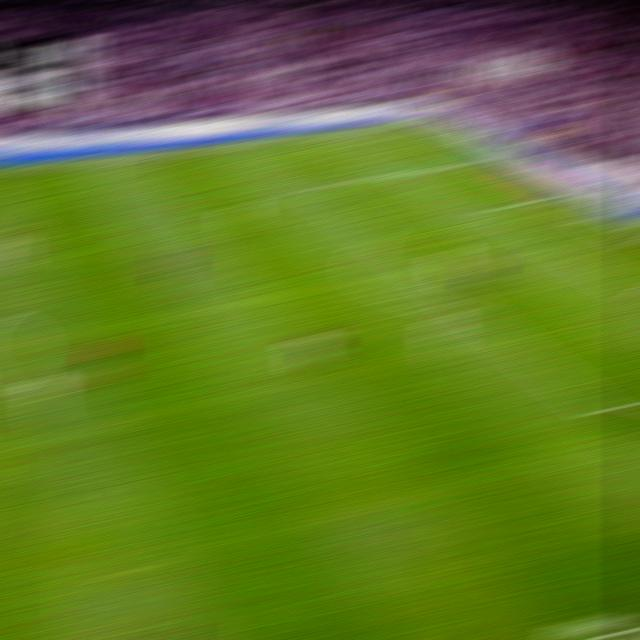bigarea_bottom_inner: (586, 398, 615, 420)
bigarea_top_inner: (301, 180, 328, 191)
bottom_arc_area_intersection: (459, 306, 486, 317)
corner: (396, 121, 424, 127)
smallarea_top_inner: (481, 205, 505, 211)
top_arc_area_intersection: (363, 229, 390, 241)
